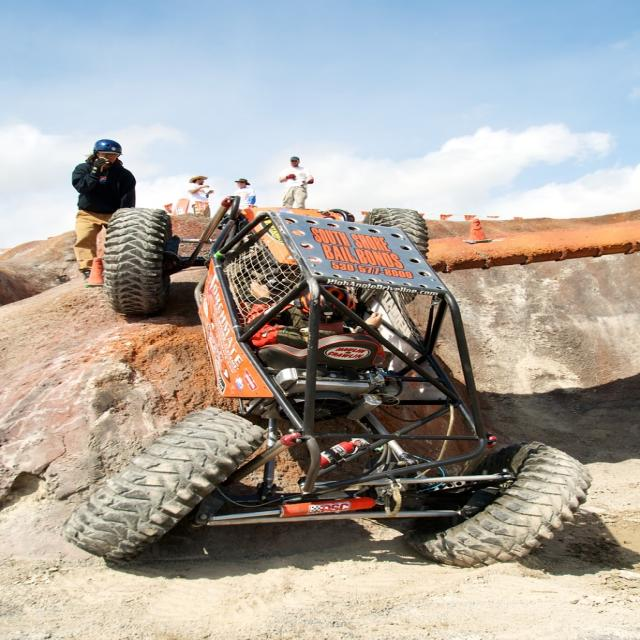car: (62, 204, 582, 565)
